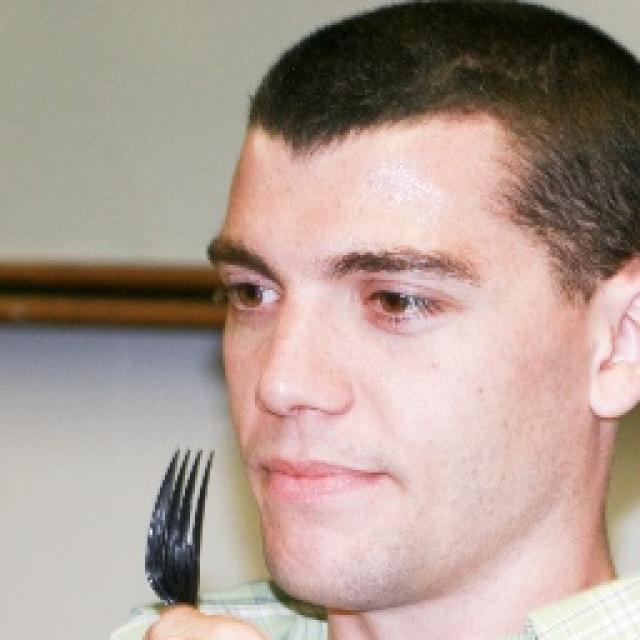earlobe: (590, 383, 639, 422)
eye: (358, 286, 453, 321), (221, 281, 280, 312)
nose: (260, 403, 347, 446)
wholeear: (589, 249, 640, 420)
